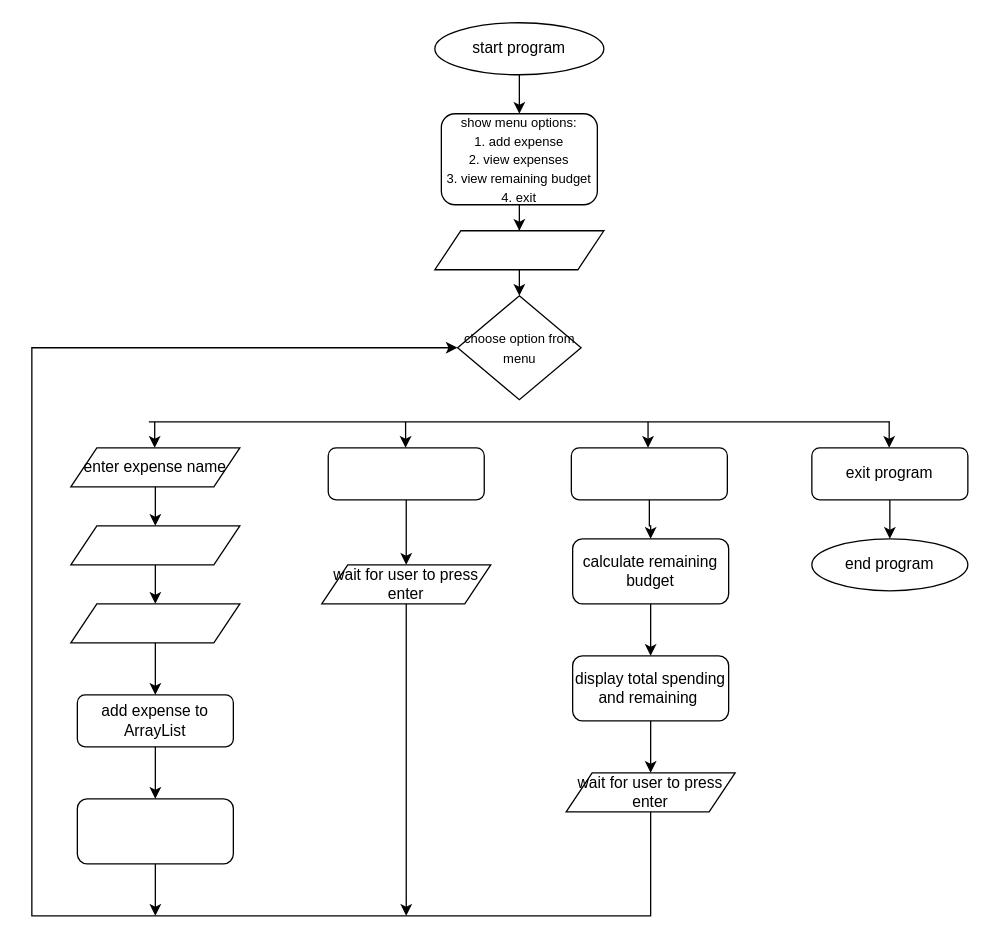
Image size: 991x949. Some labels were removed from this diagram. Here are the shapes that lost their labels. From the top down, the centre of each, then its label:
the point at 519,249: enter monthly budget
the point at 405,473: display a list of all expenses
the point at 648,473: calculate total spending
the point at 155,545: enter expense amount
the point at 155,623: choose category
the point at 154,831: update total spending
